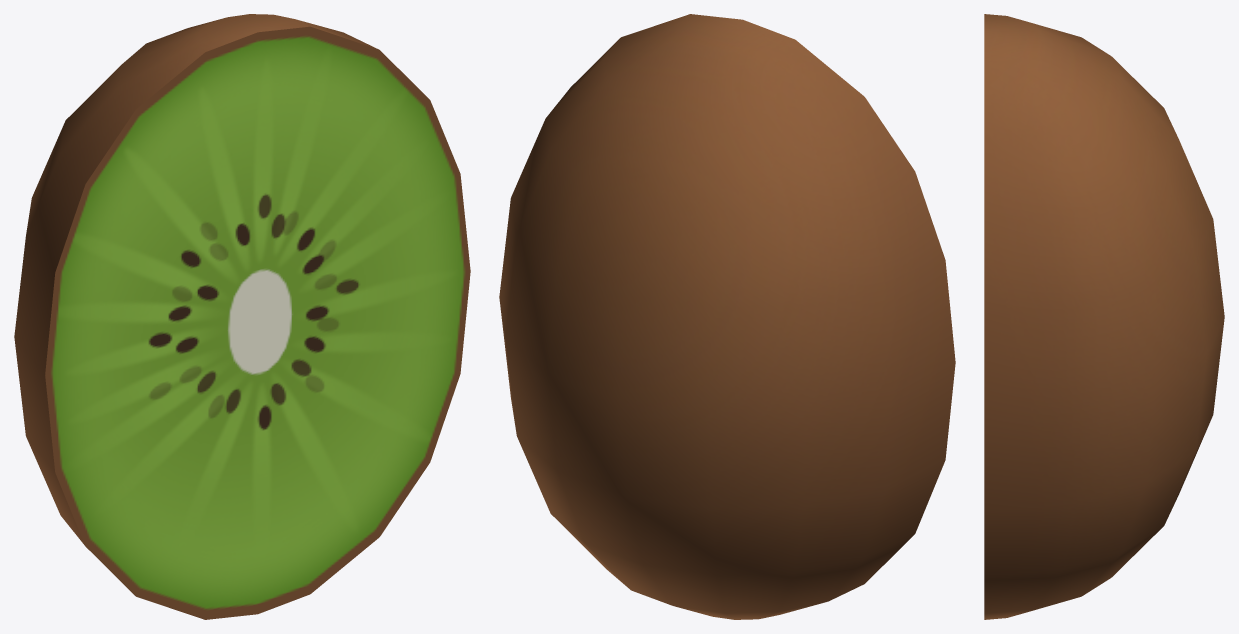
The model's file is kiwi.FBX.
3 renders of one model, left to right at view 1: azimuth 30°, elevation 25°; view 2: azimuth 150°, elevation 25°; view 3: azimuth 270°, elevation 25°, orthographic. The views are drawn at different scales.
Parts seen in each view (by area): view 1: kiwi; view 2: kiwi; view 3: kiwi.
Boxes of the visible parts, bbox=[...] form: kiwi: bbox=[14, 14, 470, 619]; kiwi: bbox=[499, 14, 955, 619]; kiwi: bbox=[984, 14, 1224, 619].
Size of the model in its own units: 26 by 33.98 by 13.
